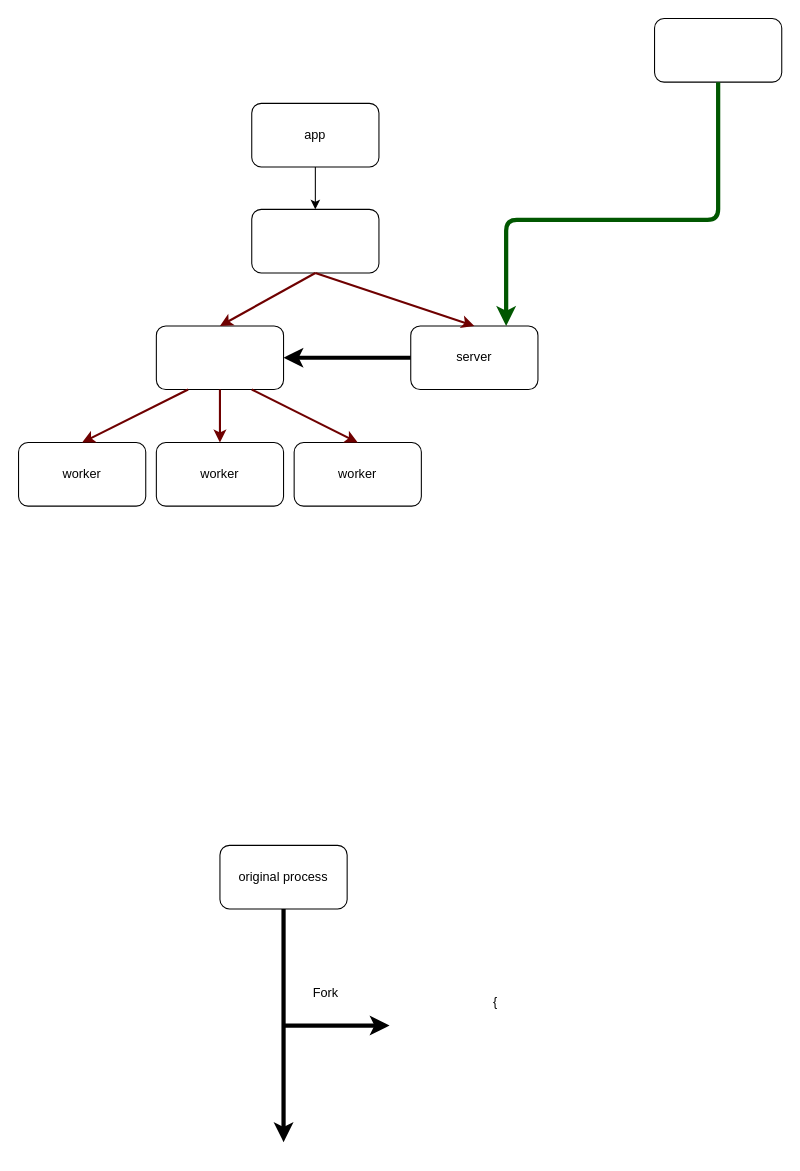
Image size: 800x1171. Some labels were removed from this diagram. Here are the shapes that lost their labels. From the top down, the box of each, then its label:
(653, 17, 782, 82): client
(251, 208, 379, 273): sup
(155, 325, 284, 390): wsup
